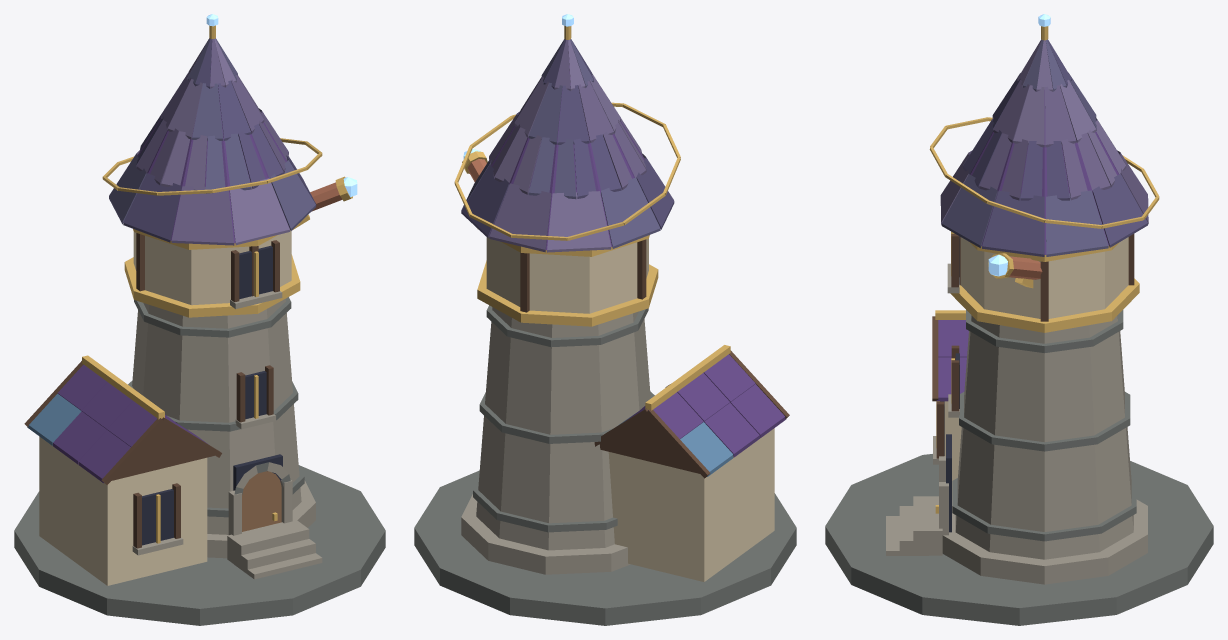
File: ENV_Landmark_wizard_LOD1.glb
3 renders of one model, left to right at view 1: azimuth 30°, elevation 25°; view 2: azimuth 150°, elevation 25°; view 3: azimuth 270°, elevation 25°, orthographic. The views are drawn at different scales.
Parts seen in each view (by area): view 1: ENV_Landmark_wizard_LOD1_s3-6_stone, ENV_Landmark_wizard_LOD1_s3-6_stoneDark, ENV_Landmark_wizard_LOD1_s3-6_plasterIvory, ENV_Landmark_wizard_LOD1_s3-6_violet, ENV_Landmark_wizard_LOD1_s6-6_violetTile1, ENV_Landmark_wizard_LOD1_s6-6_violetTile3, ENV_Landmark_wizard_LOD1_s6-6_violetTile2, ENV_Landmark_wizard_LOD1_s6-6_violetTile0, ENV_Landmark_wizard_LOD1_s4-6_plasterIvory, ENV_Landmark_wizard_LOD1_s3-6_woodDark, ENV_Landmark_wizard_LOD1_s4-6_gold, ENV_Landmark_wizard_LOD1_s3-6_ink (+8 smaller); view 2: ENV_Landmark_wizard_LOD1_s3-6_stone, ENV_Landmark_wizard_LOD1_s3-6_stoneDark, ENV_Landmark_wizard_LOD1_s3-6_plasterIvory, ENV_Landmark_wizard_LOD1_s4-6_plasterIvory, ENV_Landmark_wizard_LOD1_s3-6_violet, ENV_Landmark_wizard_LOD1_s6-6_violetTile2, ENV_Landmark_wizard_LOD1_s6-6_violetTile0, ENV_Landmark_wizard_LOD1_s6-6_violetTile1, ENV_Landmark_wizard_LOD1_s6-6_violetTile3, ENV_Landmark_wizard_LOD1_s3-6_woodDark, ENV_Landmark_wizard_LOD1_s4-6_gold, ENV_Landmark_wizard_LOD1_s6-6_gold (+4 smaller); view 3: ENV_Landmark_wizard_LOD1_s3-6_stone, ENV_Landmark_wizard_LOD1_s3-6_stoneDark, ENV_Landmark_wizard_LOD1_s6-6_violetTile0, ENV_Landmark_wizard_LOD1_s4-6_plasterIvory, ENV_Landmark_wizard_LOD1_s6-6_violetTile1, ENV_Landmark_wizard_LOD1_s6-6_violetTile3, ENV_Landmark_wizard_LOD1_s6-6_violetTile2, ENV_Landmark_wizard_LOD1_s4-6_gold, ENV_Landmark_wizard_LOD1_s6-6_gold, ENV_Landmark_wizard_LOD1_s3-6_violet, ENV_Landmark_wizard_LOD1_s3-6_woodDark, ENV_Landmark_wizard_LOD1_s6-6_violet (+4 smaller).
Boxes of the visible parts, x1=… form: ENV_Landmark_wizard_LOD1_s3-6_stone: x1=132, y1=299, x2=322, y2=579; ENV_Landmark_wizard_LOD1_s3-6_stoneDark: x1=14, y1=297, x2=385, y2=625; ENV_Landmark_wizard_LOD1_s3-6_plasterIvory: x1=39, y1=436, x2=207, y2=585; ENV_Landmark_wizard_LOD1_s3-6_violet: x1=53, y1=364, x2=208, y2=483; ENV_Landmark_wizard_LOD1_s6-6_violetTile1: x1=136, y1=39, x2=288, y2=245; ENV_Landmark_wizard_LOD1_s6-6_violetTile3: x1=109, y1=38, x2=315, y2=230; ENV_Landmark_wizard_LOD1_s6-6_violetTile2: x1=109, y1=38, x2=289, y2=245; ENV_Landmark_wizard_LOD1_s6-6_violetTile0: x1=123, y1=39, x2=316, y2=242; ENV_Landmark_wizard_LOD1_s4-6_plasterIvory: x1=133, y1=230, x2=291, y2=305; ENV_Landmark_wizard_LOD1_s3-6_woodDark: x1=24, y1=361, x2=273, y2=548; ENV_Landmark_wizard_LOD1_s4-6_gold: x1=124, y1=229, x2=300, y2=317; ENV_Landmark_wizard_LOD1_s3-6_ink: x1=142, y1=371, x2=282, y2=545; ENV_Landmark_wizard_LOD1_s3-6_stone: x1=461, y1=307, x2=650, y2=574; ENV_Landmark_wizard_LOD1_s3-6_stoneDark: x1=414, y1=305, x2=796, y2=625; ENV_Landmark_wizard_LOD1_s3-6_plasterIvory: x1=608, y1=428, x2=774, y2=581; ENV_Landmark_wizard_LOD1_s4-6_plasterIvory: x1=486, y1=236, x2=648, y2=313; ENV_Landmark_wizard_LOD1_s3-6_violet: x1=626, y1=354, x2=786, y2=457; ENV_Landmark_wizard_LOD1_s6-6_violetTile2: x1=495, y1=39, x2=646, y2=252; ENV_Landmark_wizard_LOD1_s6-6_violetTile0: x1=461, y1=39, x2=674, y2=237; ENV_Landmark_wizard_LOD1_s6-6_violetTile1: x1=489, y1=40, x2=673, y2=252; ENV_Landmark_wizard_LOD1_s6-6_violetTile3: x1=461, y1=39, x2=660, y2=248; ENV_Landmark_wizard_LOD1_s3-6_woodDark: x1=594, y1=350, x2=789, y2=478; ENV_Landmark_wizard_LOD1_s4-6_gold: x1=477, y1=228, x2=658, y2=326; ENV_Landmark_wizard_LOD1_s6-6_gold: x1=454, y1=26, x2=680, y2=240; ENV_Landmark_wizard_LOD1_s3-6_stone: x1=886, y1=315, x2=1147, y2=584; ENV_Landmark_wizard_LOD1_s3-6_stoneDark: x1=825, y1=310, x2=1213, y2=625; ENV_Landmark_wizard_LOD1_s6-6_violetTile0: x1=963, y1=39, x2=1147, y2=256; ENV_Landmark_wizard_LOD1_s4-6_plasterIvory: x1=960, y1=237, x2=1128, y2=318; ENV_Landmark_wizard_LOD1_s6-6_violetTile1: x1=968, y1=74, x2=1148, y2=224; ENV_Landmark_wizard_LOD1_s6-6_violetTile3: x1=941, y1=40, x2=1125, y2=256; ENV_Landmark_wizard_LOD1_s6-6_violetTile2: x1=940, y1=39, x2=1126, y2=224; ENV_Landmark_wizard_LOD1_s4-6_gold: x1=950, y1=231, x2=1139, y2=332; ENV_Landmark_wizard_LOD1_s6-6_gold: x1=929, y1=26, x2=1159, y2=228; ENV_Landmark_wizard_LOD1_s3-6_violet: x1=936, y1=320, x2=968, y2=401; ENV_Landmark_wizard_LOD1_s3-6_woodDark: x1=932, y1=316, x2=959, y2=458; ENV_Landmark_wizard_LOD1_s6-6_violet: x1=970, y1=90, x2=1118, y2=254.
Bounding box in the file's own units: 8.5 × 13.09 × 8.5.
